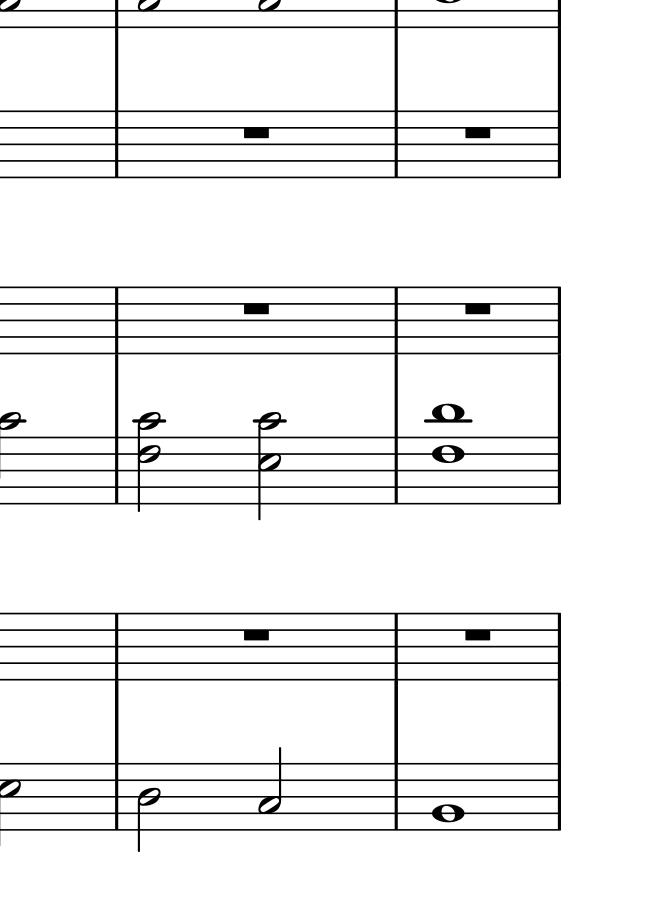1_2: (430, 761, 466, 833)
1_6_11: (425, 401, 475, 508)
2_3: (257, 746, 284, 835)
2_4: (136, 763, 162, 854)
2_5_10: (251, 409, 284, 524)
2_6_10: (134, 411, 164, 515)
Rests1: (459, 297, 501, 318), (458, 123, 502, 143), (240, 299, 277, 321), (460, 626, 502, 644), (237, 124, 276, 142), (241, 625, 275, 643)
Single_barline: (548, 436, 568, 504), (387, 436, 406, 504), (108, 109, 125, 179), (550, 110, 567, 178), (550, 763, 567, 830), (387, 288, 404, 354), (108, 437, 125, 503), (108, 288, 125, 353), (108, 614, 125, 679), (388, 109, 404, 178), (109, 763, 125, 830), (551, 286, 566, 356), (388, 614, 404, 679), (551, 613, 566, 681), (389, 764, 404, 829)
